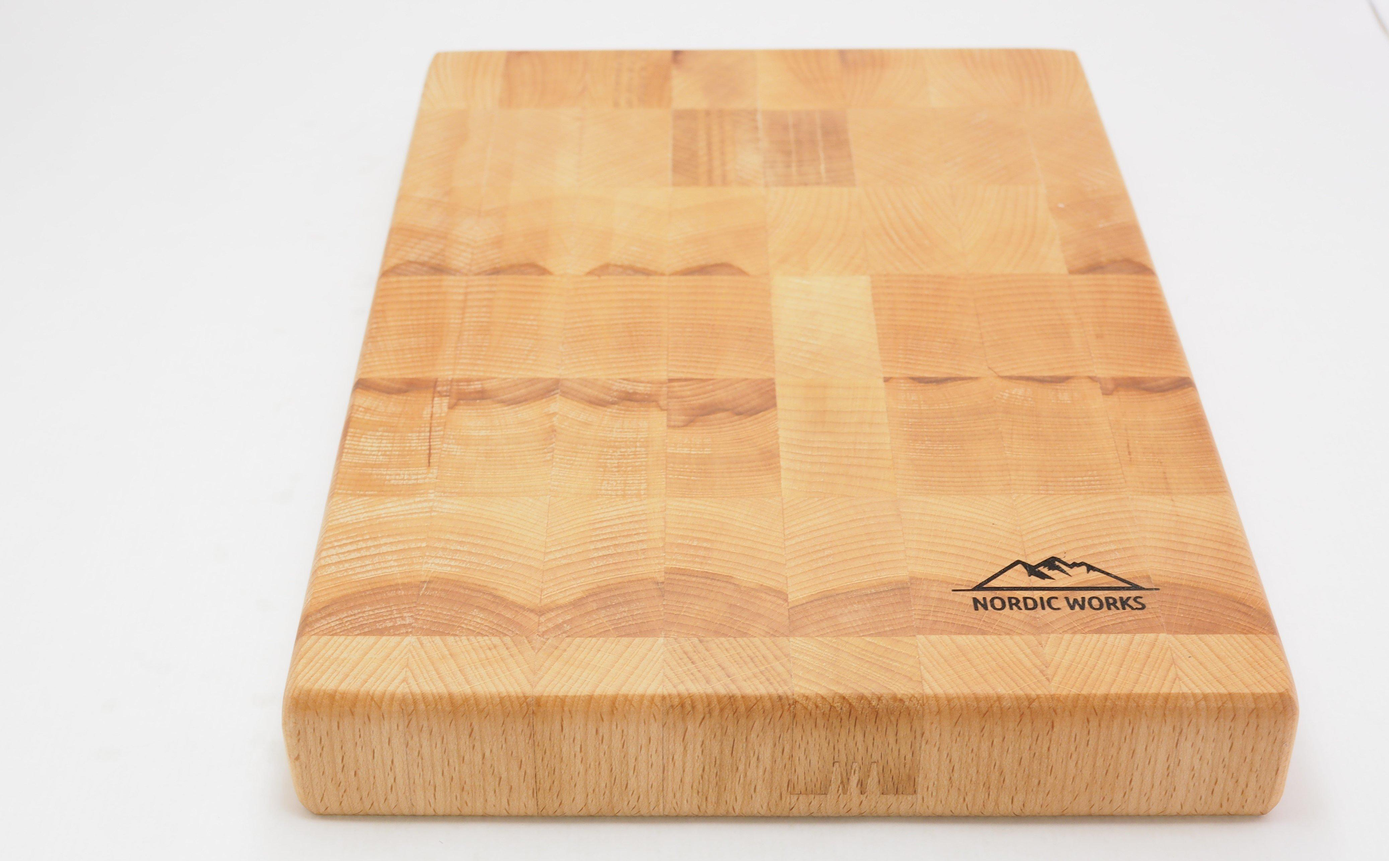gloved_hand: (263, 36, 1309, 832)
